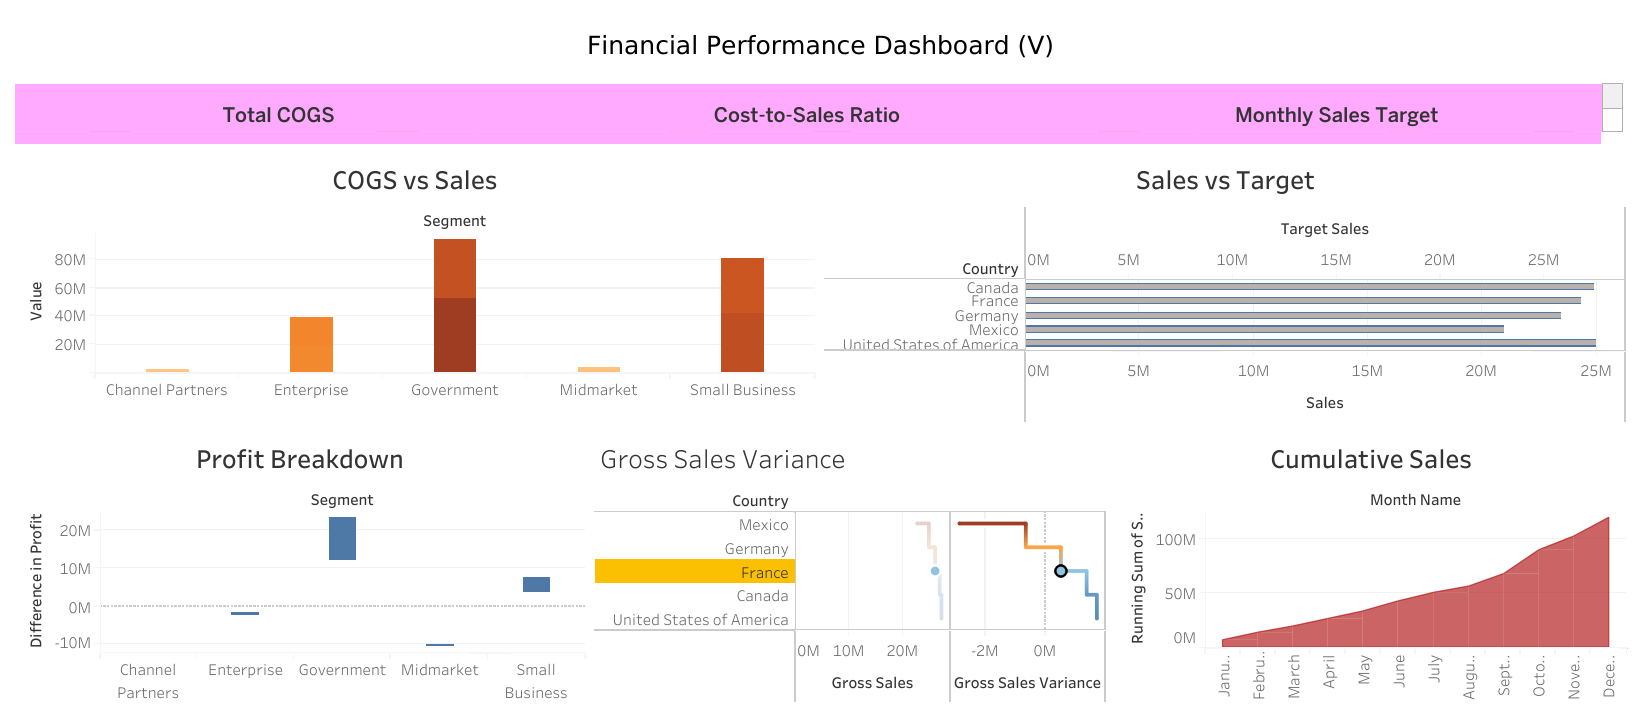

What the dashboard file says about the page in this screenshot:
{"tool":"tableau","page":{"name":"Dashboard 5","canvas":[1000,1000],"units":"permille","ordinal":4},"visuals":[{"type":"text","box":[4.8,10,893.8,97.3]},{"type":"legend","title":"Gross Sales Variance","param":"[federated.13n6ggl16nxl9d16uggdn08ev3bk].[usr:Calculation_1151231817510912:qk]","box":[898.6,10,96.6,91.1]},{"type":"worksheet","title":"KPI 5","mark":"Text","cols":["Calculation_1421709216038924","Calculation_1421709216063502","Calculation_1421709216165904"],"box":[4.8,107.3,893.8,97.4]},{"type":"worksheet","title":"COGS vs Sales","mark":"Automatic","cols":["Segment"],"box":[4.8,204.7,446.9,392.7]},{"type":"worksheet","title":"Sales vs Target","mark":"Bar","rows":["Country"],"cols":["Sales ","Calculation_0104221709291540"],"box":[451.7,204.7,446.9,392.7]},{"type":"worksheet","title":"Profit Breakdown","mark":"GanttBar","rows":["Profit "],"cols":["Segment"],"box":[4.8,597.3,319.8,392.7]},{"type":"worksheet","title":"Gross Sales Variance","mark":"Line","rows":["Country"],"cols":["Gross Sales ","Calculation_1151231817510912"],"box":[324.7,597.3,287.3,392.7]},{"type":"worksheet","title":"Cumulative Sales","mark":"Area","rows":["Sales "],"cols":["Month Name "],"box":[611.9,597.3,286.7,392.7]}]}

Visuals, with their boxes on the dashboard's canvas, which has no fixed pixel size, in thousandths of its width and height (x1, y1, x2, y2). These are canvas units, not pixel positions in the 1640x716 screenshot, which may show the page scaled, cropped or inside an application window:
text: x1=5, y1=10, x2=899, y2=107
"Gross Sales Variance" legend: x1=899, y1=10, x2=995, y2=101
"KPI 5" worksheet (Text marks): x1=5, y1=107, x2=899, y2=205
"COGS vs Sales" worksheet: x1=5, y1=205, x2=452, y2=597
"Sales vs Target" worksheet (Bar marks): x1=452, y1=205, x2=899, y2=597
"Profit Breakdown" worksheet (GanttBar marks): x1=5, y1=597, x2=325, y2=990
"Gross Sales Variance" worksheet (Line marks): x1=325, y1=597, x2=612, y2=990
"Cumulative Sales" worksheet (Area marks): x1=612, y1=597, x2=899, y2=990
